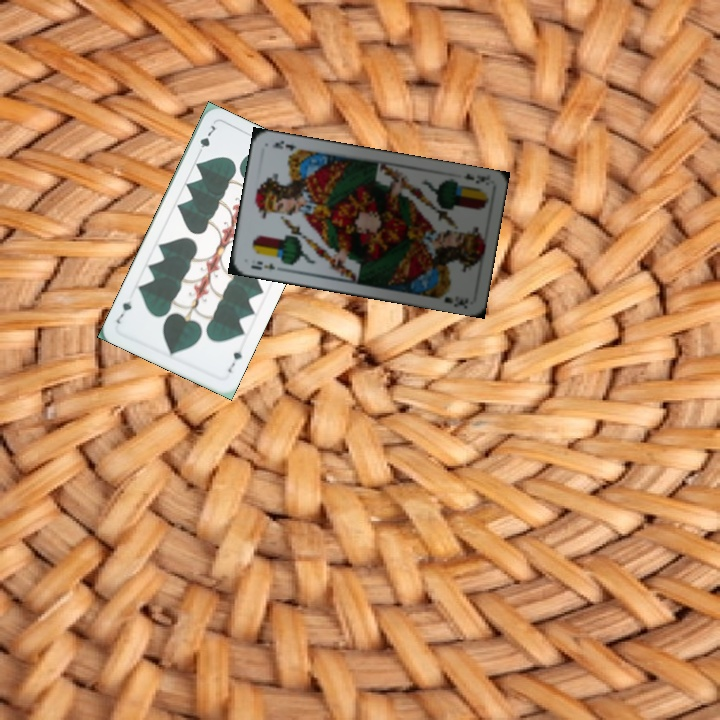EK: (459, 169, 492, 186), (247, 257, 277, 273)
G7: (193, 121, 218, 158), (224, 347, 245, 375)
